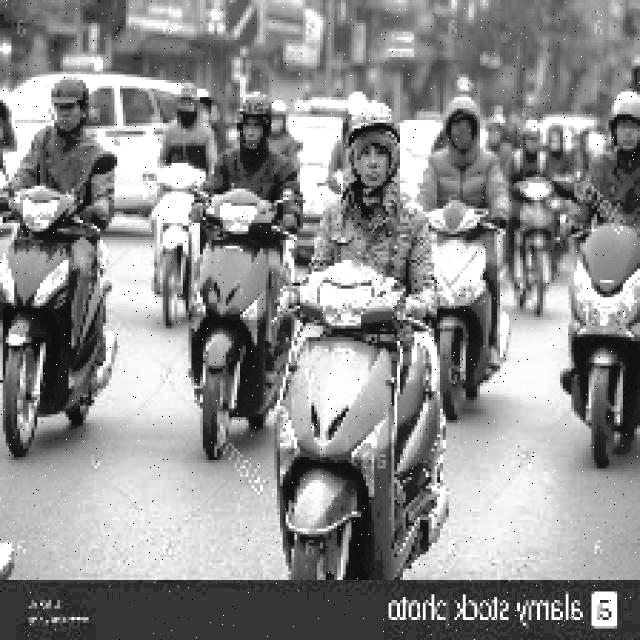Bike: (283, 289, 435, 573), (180, 175, 291, 449), (3, 208, 119, 449), (554, 215, 640, 480), (431, 198, 512, 408), (148, 165, 200, 302)
